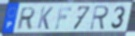3: (110, 5, 126, 30)
7: (72, 5, 92, 31)
F: (54, 7, 73, 31)
K: (36, 6, 54, 31)
R: (89, 5, 111, 31), (15, 7, 37, 31)
